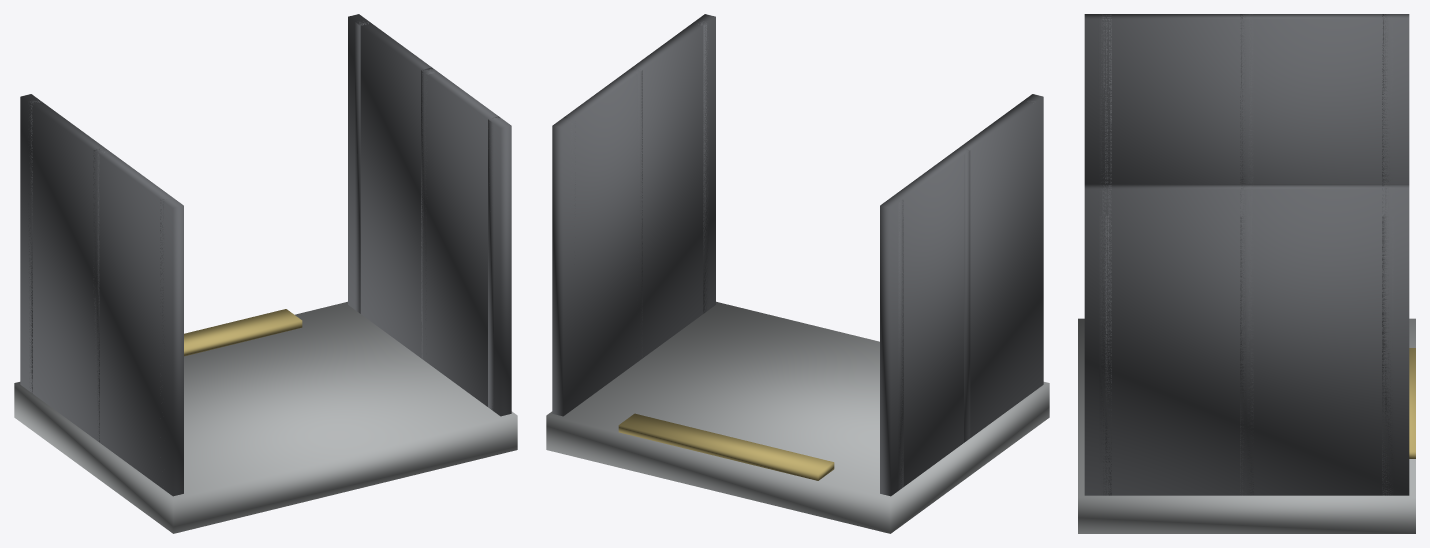
The model's file is floor_w125_d100_sides.glb.
The picture shows the model from 3 angles, left to right: view 1: azimuth 30°, elevation 25°; view 2: azimuth 150°, elevation 25°; view 3: azimuth 270°, elevation 25°; orthographic projection. The views are drawn at different scales.
Parts seen in each view (by area): view 1: world; view 2: world; view 3: world.
Boxes of the visible parts, <box> form: world: <box>14,14,517,533</box>; world: <box>546,14,1049,533</box>; world: <box>1078,14,1415,533</box>.
Bounding box in the file's own units: 1.25 × 1.12 × 1.
